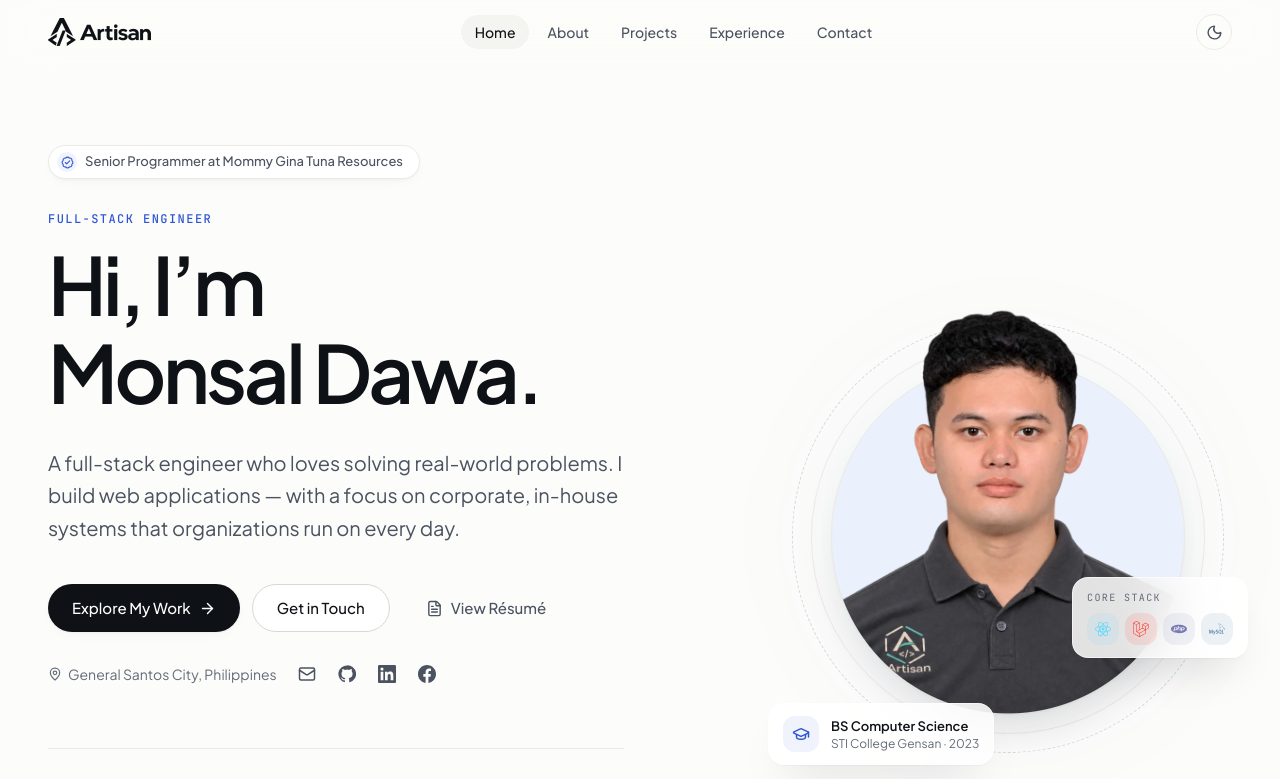
Test: routing and navigation › navigates between pages via the primary navigation
Click the link "Experience".
click(747, 32)  # box [709,23,785,41]
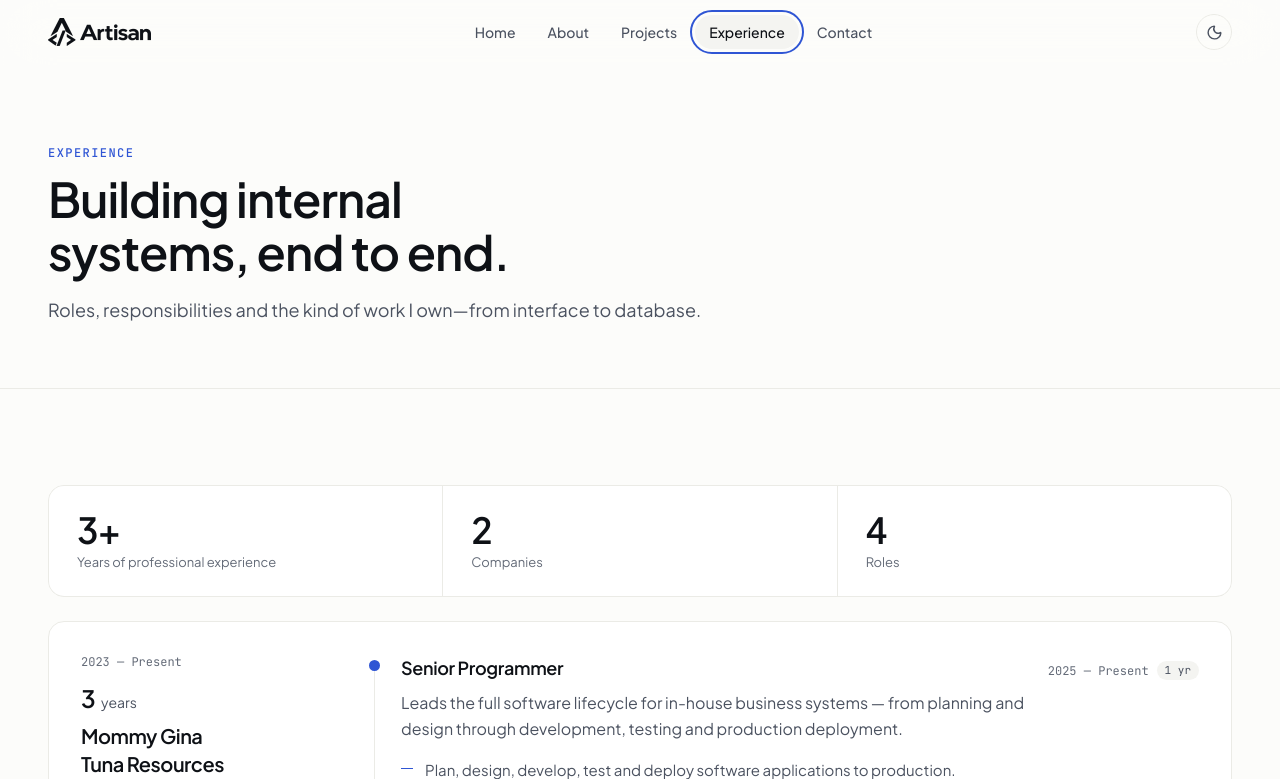
Now the heading "Building internal systems, end to end." is shown, box [48,168,509,282]
